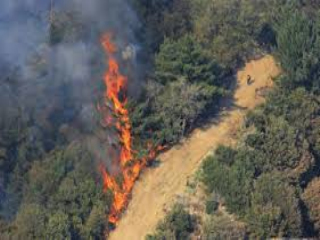fire: (94, 33, 165, 211)
